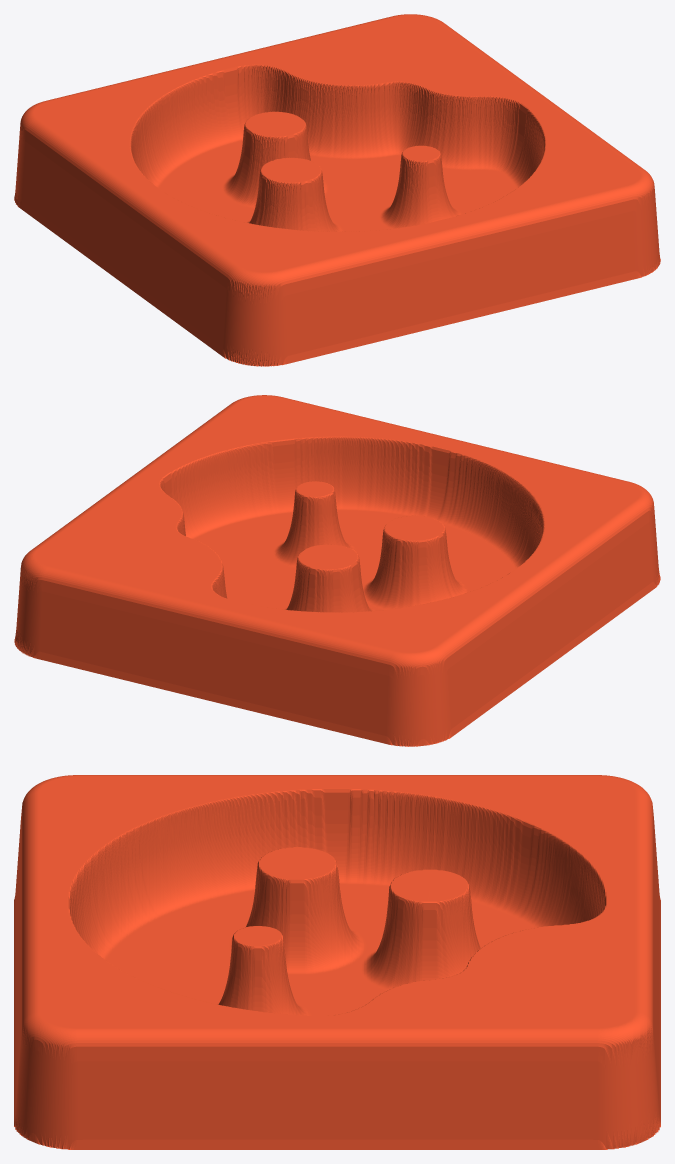
The model's file is mold.glb.
The picture shows the model from 3 angles, top to bottom: view 1: azimuth 30°, elevation 25°; view 2: azimuth 150°, elevation 25°; view 3: azimuth 270°, elevation 25°; orthographic projection. The views are drawn at different scales.
Parts seen in each view (by area): view 1: geometry_0; view 2: geometry_0; view 3: geometry_0.
Part boxes in pixels (x1,y1,x2,y2): geometry_0: (14, 14, 660, 366); geometry_0: (14, 395, 660, 746); geometry_0: (14, 775, 660, 1149).
Bounding box in the file's own units: 0.0922 × 0.0175 × 0.0924.
